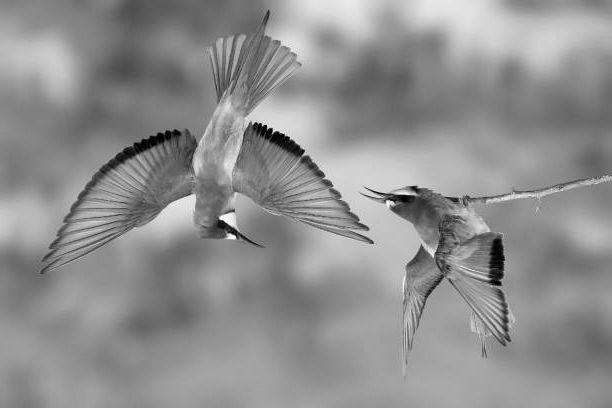Bird: (36, 4, 377, 278), (359, 173, 612, 389)
